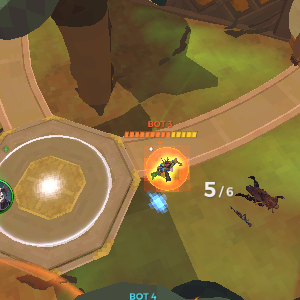model: (147, 152, 186, 186)
